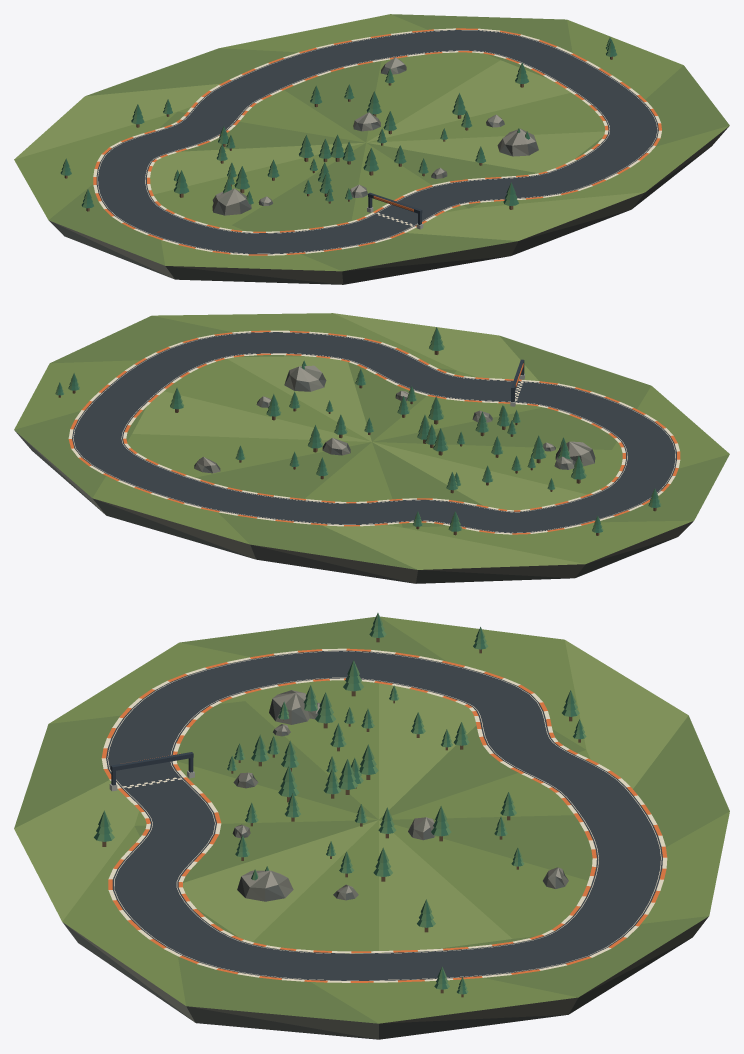
File: circuit.glb
3 views of the same model, one above another, from view 1: azimuth 30°, elevation 25°; view 2: azimuth 150°, elevation 25°; view 3: azimuth 270°, elevation 25° (orthographic). The views are drawn at different scales.
Parts seen in each view (by area): view 1: Circuit terrain, Road, Kerbs and edge paint, Pines, Faceted boulders, Start gantry and grid; view 2: Circuit terrain, Road, Kerbs and edge paint, Pines, Faceted boulders; view 3: Circuit terrain, Road, Kerbs and edge paint, Pines, Faceted boulders, Start gantry and grid.
Part boxes in pixels (x1=…): Circuit terrain: x1=14, y1=14, x2=729, y2=284; Road: x1=96, y1=30, x2=658, y2=254; Kerbs and edge paint: x1=93, y1=28, x2=661, y2=255; Pines: x1=60, y1=37, x2=617, y2=211; Faceted boulders: x1=212, y1=57, x2=538, y2=215; Start gantry and grid: x1=367, y1=192, x2=423, y2=229; Circuit terrain: x1=14, y1=313, x2=729, y2=583; Road: x1=72, y1=332, x2=676, y2=533; Kerbs and edge paint: x1=68, y1=330, x2=680, y2=534; Pines: x1=55, y1=327, x2=661, y2=535; Faceted boulders: x1=194, y1=365, x2=595, y2=473; Circuit terrain: x1=14, y1=616, x2=729, y2=1039; Road: x1=106, y1=650, x2=662, y2=980; Kerbs and edge paint: x1=101, y1=648, x2=667, y2=982; Pines: x1=94, y1=613, x2=586, y2=997; Faceted boulders: x1=232, y1=690, x2=568, y2=901; Start gantry and grid: x1=109, y1=752, x2=194, y2=791.
Bounding box in the file's own units: 140 × 9.98 × 104.
